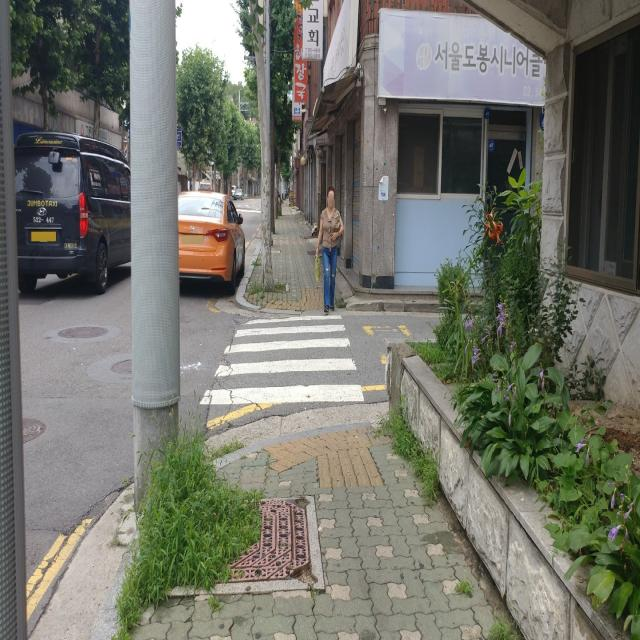횡단보도: (199, 314, 365, 406)
